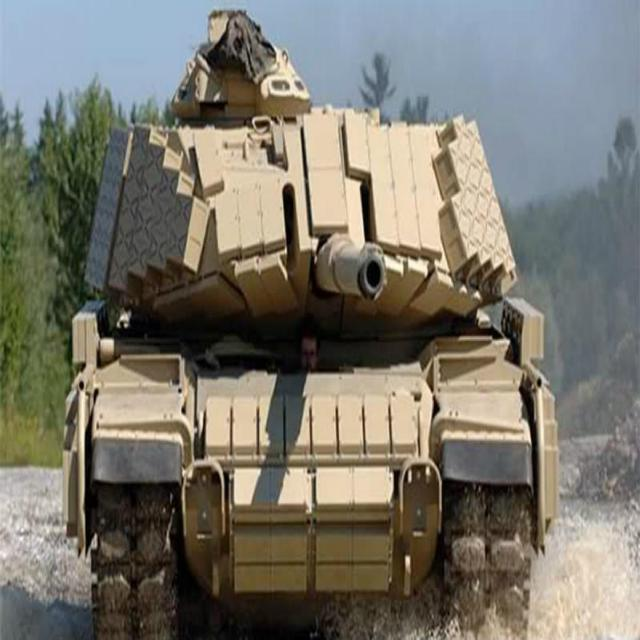Tanks: (58, 102, 565, 605)
